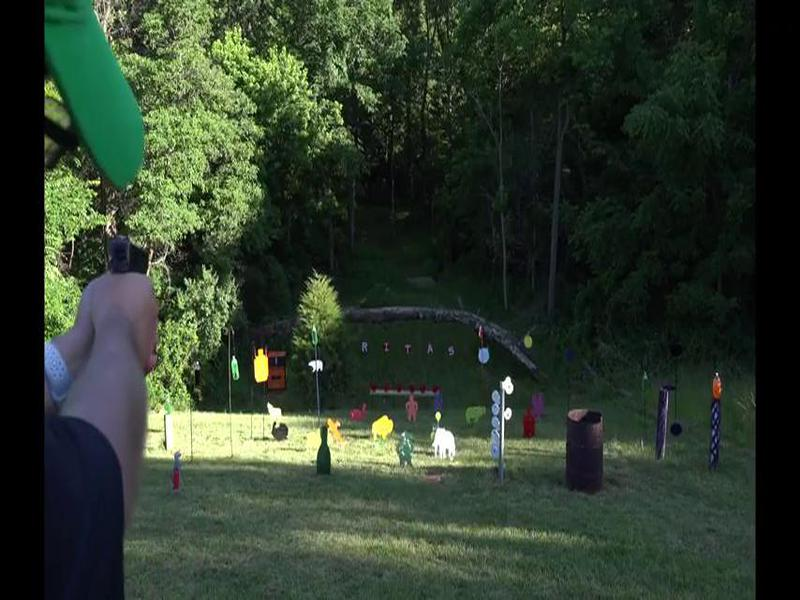Pistola: (98, 226, 167, 319)
